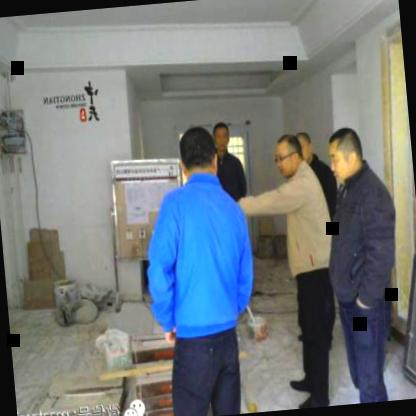head: (174, 120, 220, 190), (322, 124, 368, 187), (270, 132, 306, 178), (294, 125, 316, 165), (212, 118, 234, 156)
